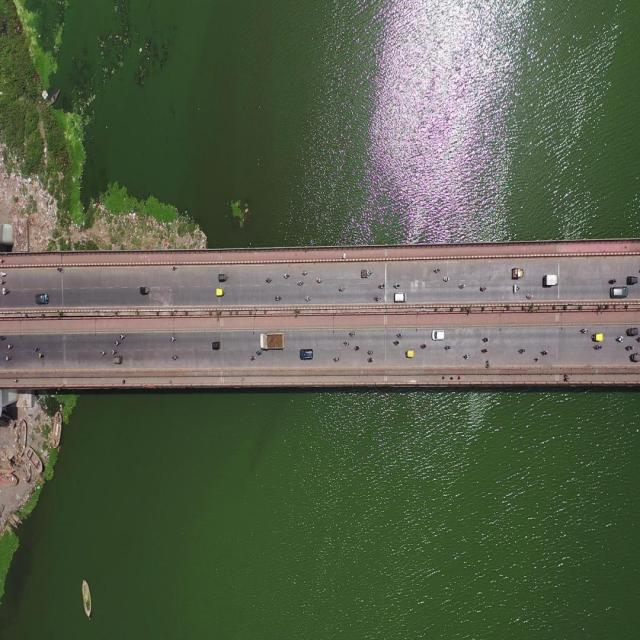3W: (113, 353, 124, 368), (217, 271, 229, 284), (213, 338, 223, 353), (405, 349, 416, 362), (592, 330, 602, 344), (214, 285, 226, 296), (630, 352, 640, 364), (626, 274, 636, 286), (138, 287, 152, 295), (625, 327, 637, 336)
Cars: (541, 269, 561, 287), (609, 288, 632, 300), (299, 345, 316, 360), (432, 324, 447, 341), (35, 291, 51, 306), (395, 290, 407, 304), (625, 274, 638, 286)
M2W: (541, 347, 553, 362), (265, 271, 275, 287), (331, 353, 343, 365), (532, 352, 542, 364), (248, 353, 258, 364), (477, 282, 487, 293), (118, 331, 127, 343), (304, 294, 313, 306), (348, 330, 358, 340), (366, 348, 376, 358), (396, 332, 406, 342), (101, 348, 109, 360), (339, 285, 347, 297), (627, 342, 635, 354), (394, 338, 401, 351), (273, 294, 283, 303), (580, 324, 589, 334), (301, 267, 309, 278), (594, 344, 606, 351), (32, 345, 41, 354), (4, 287, 13, 296), (255, 348, 264, 357), (419, 343, 428, 352), (110, 348, 118, 358), (342, 339, 352, 347), (372, 294, 382, 302), (479, 346, 489, 354), (444, 274, 454, 282), (351, 345, 363, 351), (458, 282, 467, 290), (1, 334, 8, 344), (393, 280, 401, 288), (169, 333, 176, 342), (298, 277, 304, 287), (364, 359, 374, 365), (282, 272, 289, 280), (517, 348, 525, 355), (172, 264, 178, 273), (7, 343, 14, 350), (113, 338, 120, 345), (172, 354, 179, 361), (314, 278, 322, 284), (446, 346, 454, 352), (525, 292, 533, 298), (378, 283, 385, 289), (434, 266, 440, 273), (4, 356, 12, 361), (37, 354, 45, 359), (462, 353, 468, 358), (482, 336, 488, 341), (615, 337, 623, 340)
